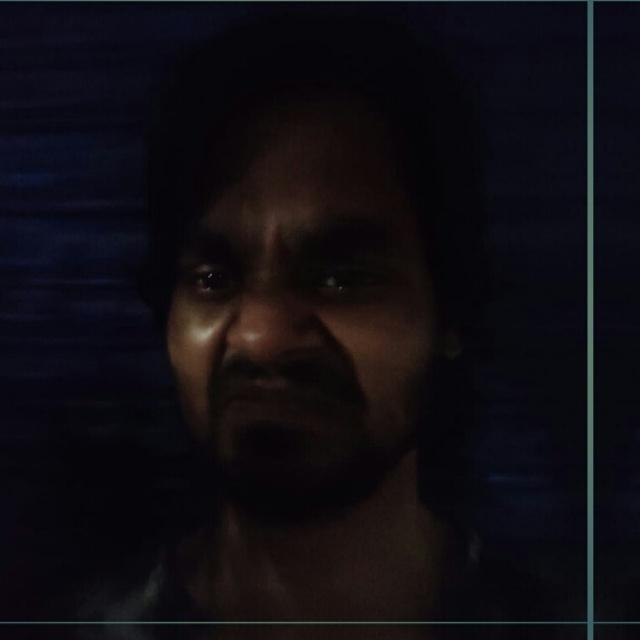Disgust: (82, 93, 476, 500)
